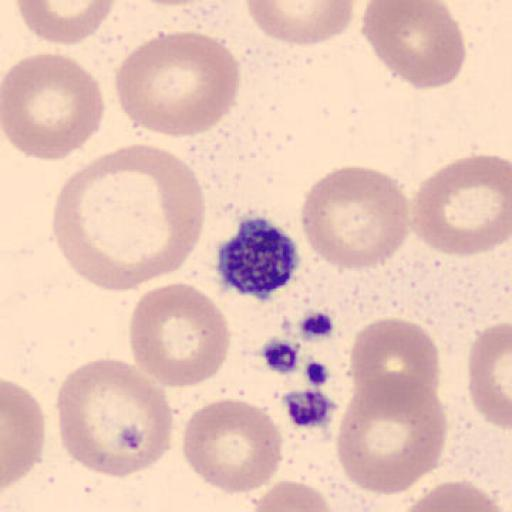Platelet: (214, 213, 302, 302), (282, 386, 338, 434)
RBC: (50, 144, 202, 293), (334, 369, 448, 498), (55, 356, 174, 479), (115, 30, 241, 140), (298, 164, 412, 273), (1, 51, 106, 162), (128, 281, 232, 389), (409, 152, 512, 258), (180, 397, 284, 496), (360, 0, 467, 90), (348, 316, 442, 416), (245, 0, 357, 47), (468, 320, 512, 433), (2, 378, 46, 489), (251, 476, 379, 512), (15, 0, 116, 45), (398, 479, 503, 512), (250, 478, 338, 512)
